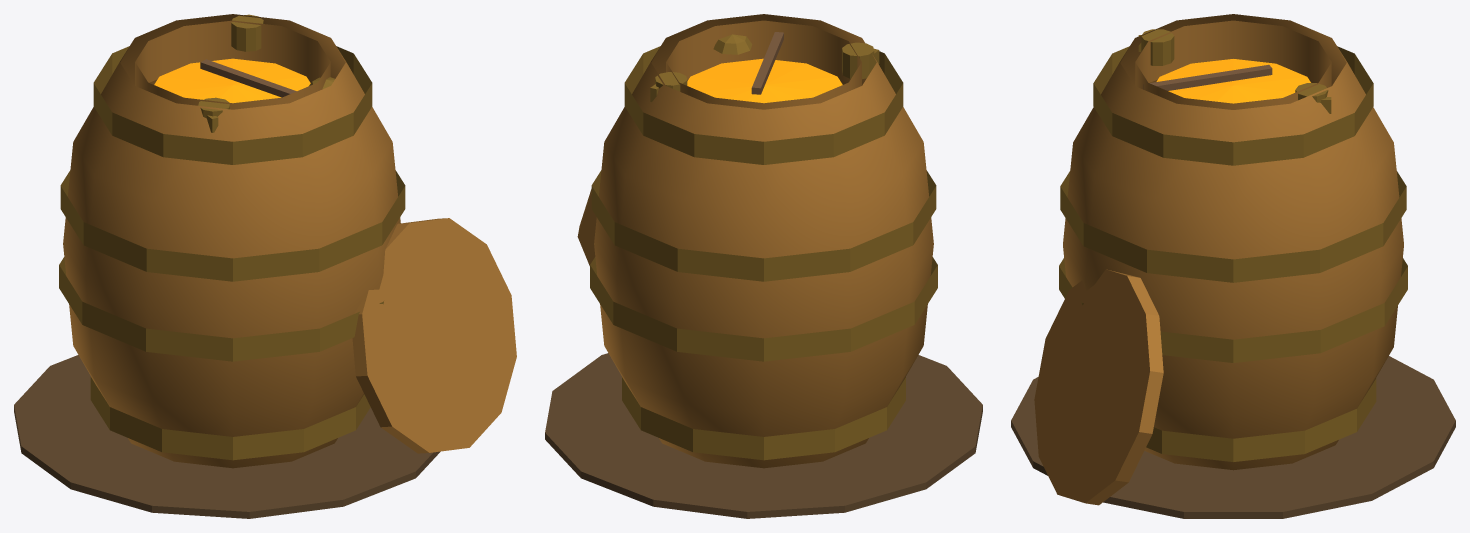
Rendered from SM_Barrel_Tavern_02_Open.glb.
3 views of the same model, side by side, from view 1: azimuth 30°, elevation 25°; view 2: azimuth 150°, elevation 25°; view 3: azimuth 270°, elevation 25° (orthographic).
Parts seen in each view (by area): view 1: SM_Barrel_Tavern_02_Open_Body, SM_Barrel_Tavern_02_Open_LidProp, SM_Barrel_Tavern_02_Open_DirtRing, SM_Barrel_Tavern_02_Open_Hoop2, SM_Barrel_Tavern_02_Open_Hoop3, SM_Barrel_Tavern_02_Open_Hoop1, SM_Barrel_Tavern_02_Open_Hoop0, SM_Barrel_Tavern_02_Open_Ale2, SM_Barrel_Tavern_02_Open_LadleHandle, SM_Barrel_Tavern_02_Open_Tankard0; view 2: SM_Barrel_Tavern_02_Open_Body, SM_Barrel_Tavern_02_Open_DirtRing, SM_Barrel_Tavern_02_Open_Hoop2, SM_Barrel_Tavern_02_Open_Hoop1, SM_Barrel_Tavern_02_Open_Hoop3, SM_Barrel_Tavern_02_Open_Hoop0, SM_Barrel_Tavern_02_Open_Ale2, SM_Barrel_Tavern_02_Open_Tankard1, SM_Barrel_Tavern_02_Open_LidProp, SM_Barrel_Tavern_02_Open_LadleHandle, SM_Barrel_Tavern_02_Open_LadleCup; view 3: SM_Barrel_Tavern_02_Open_Body, SM_Barrel_Tavern_02_Open_DirtRing, SM_Barrel_Tavern_02_Open_LidProp, SM_Barrel_Tavern_02_Open_Hoop2, SM_Barrel_Tavern_02_Open_Hoop3, SM_Barrel_Tavern_02_Open_Hoop1, SM_Barrel_Tavern_02_Open_Hoop0, SM_Barrel_Tavern_02_Open_Ale2, SM_Barrel_Tavern_02_Open_LadleHandle, SM_Barrel_Tavern_02_Open_Tankard1.
Part boxes in pixels (x1,y1,x2,y2): SM_Barrel_Tavern_02_Open_Body: (63, 14, 400, 468); SM_Barrel_Tavern_02_Open_LidProp: (352, 218, 516, 453); SM_Barrel_Tavern_02_Open_DirtRing: (14, 355, 440, 518); SM_Barrel_Tavern_02_Open_Hoop2: (60, 170, 405, 281); SM_Barrel_Tavern_02_Open_Hoop3: (93, 46, 372, 164); SM_Barrel_Tavern_02_Open_Hoop1: (59, 257, 383, 361); SM_Barrel_Tavern_02_Open_Hoop0: (90, 377, 370, 460); SM_Barrel_Tavern_02_Open_Ale2: (154, 58, 310, 103); SM_Barrel_Tavern_02_Open_LadleHandle: (200, 59, 296, 97); SM_Barrel_Tavern_02_Open_Tankard0: (231, 14, 263, 51); SM_Barrel_Tavern_02_Open_Body: (594, 14, 933, 468); SM_Barrel_Tavern_02_Open_DirtRing: (545, 353, 982, 518); SM_Barrel_Tavern_02_Open_Hoop2: (591, 170, 936, 281); SM_Barrel_Tavern_02_Open_Hoop1: (590, 257, 937, 361); SM_Barrel_Tavern_02_Open_Hoop3: (624, 46, 903, 164); SM_Barrel_Tavern_02_Open_Hoop0: (622, 377, 905, 460); SM_Barrel_Tavern_02_Open_Ale2: (687, 58, 842, 103); SM_Barrel_Tavern_02_Open_Tankard1: (842, 42, 874, 79); SM_Barrel_Tavern_02_Open_LidProp: (577, 189, 596, 265); SM_Barrel_Tavern_02_Open_LadleHandle: (751, 32, 783, 94); SM_Barrel_Tavern_02_Open_LadleCup: (713, 34, 752, 54); SM_Barrel_Tavern_02_Open_Body: (1063, 14, 1403, 470); SM_Barrel_Tavern_02_Open_DirtRing: (1011, 356, 1455, 518); SM_Barrel_Tavern_02_Open_LidProp: (1034, 269, 1163, 505); SM_Barrel_Tavern_02_Open_Hoop2: (1060, 171, 1406, 282); SM_Barrel_Tavern_02_Open_Hoop3: (1093, 46, 1373, 165); SM_Barrel_Tavern_02_Open_Hoop1: (1059, 258, 1407, 362); SM_Barrel_Tavern_02_Open_Hoop0: (1146, 378, 1376, 461); SM_Barrel_Tavern_02_Open_Ale2: (1156, 59, 1310, 103); SM_Barrel_Tavern_02_Open_LadleHandle: (1143, 64, 1272, 90); SM_Barrel_Tavern_02_Open_Tankard1: (1141, 29, 1174, 65).
Bounding box in the file's own units: 0.9384 × 0.78 × 0.86.
